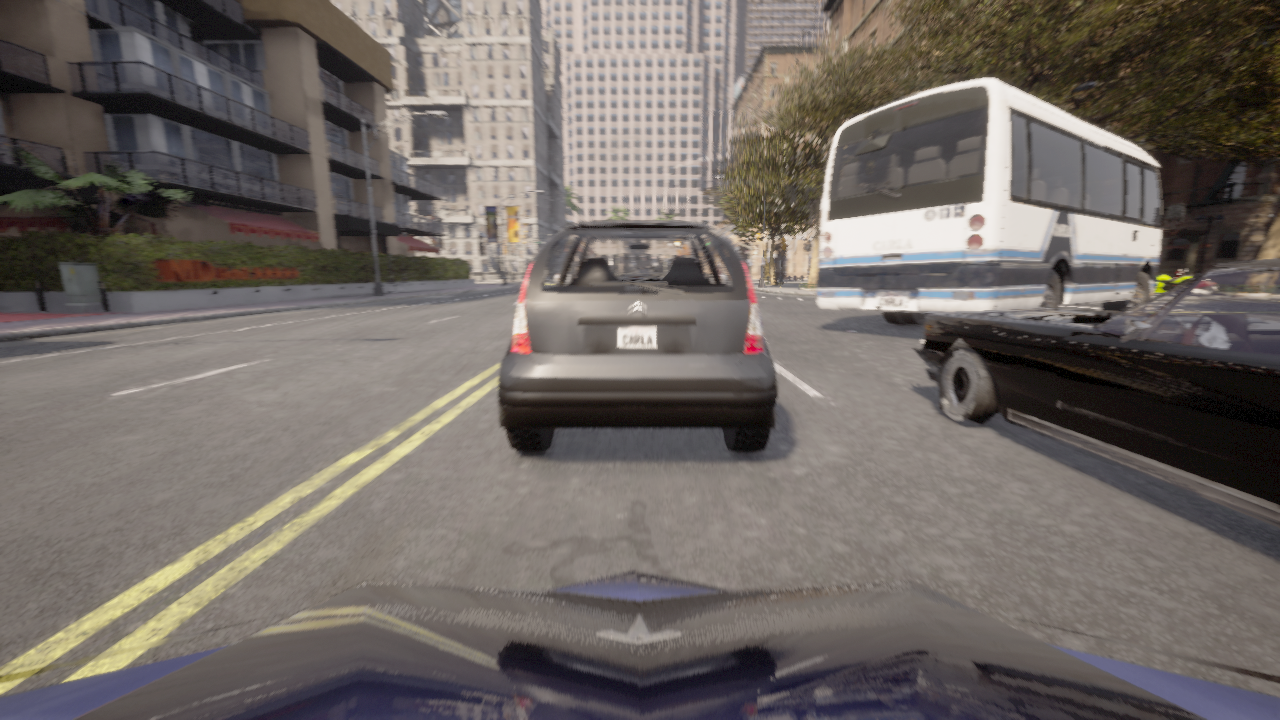cyclist: (0, 569, 1279, 719), (914, 259, 1279, 527), (817, 79, 1185, 324), (497, 220, 777, 452), (1153, 275, 1193, 292), (1173, 269, 1189, 280)
